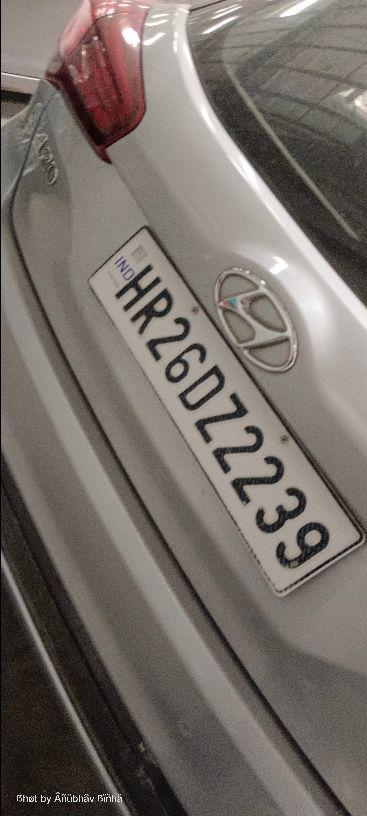license_plate: (2, 2, 365, 811), (86, 223, 365, 598)
